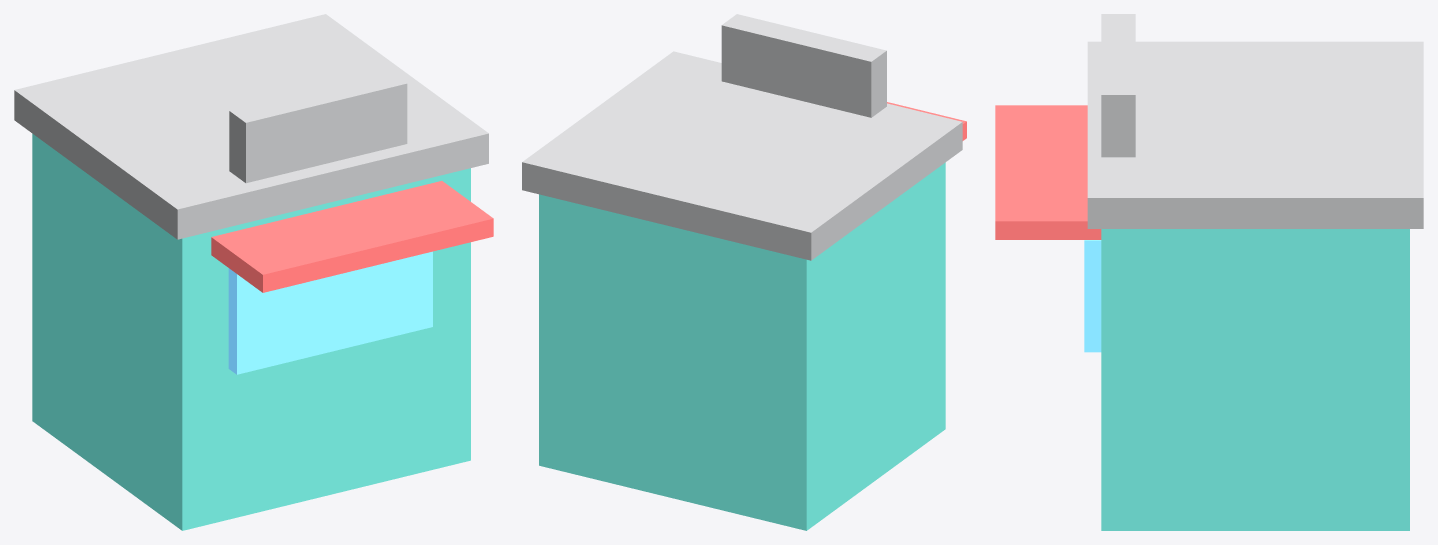
File: kiosk.glb
3 renders of one model, left to right at view 1: azimuth 30°, elevation 25°; view 2: azimuth 150°, elevation 25°; view 3: azimuth 270°, elevation 25°, orthographic. The views are drawn at different scales.
Visible parts, largest first — view 1: kiosk; view 2: kiosk; view 3: kiosk.
Part boxes in pixels (bbox=[...]): kiosk: bbox=[14, 14, 493, 530]; kiosk: bbox=[522, 14, 966, 530]; kiosk: bbox=[995, 14, 1423, 530].
Bounding box in the file's own units: 0.54 × 0.65 × 0.625.
